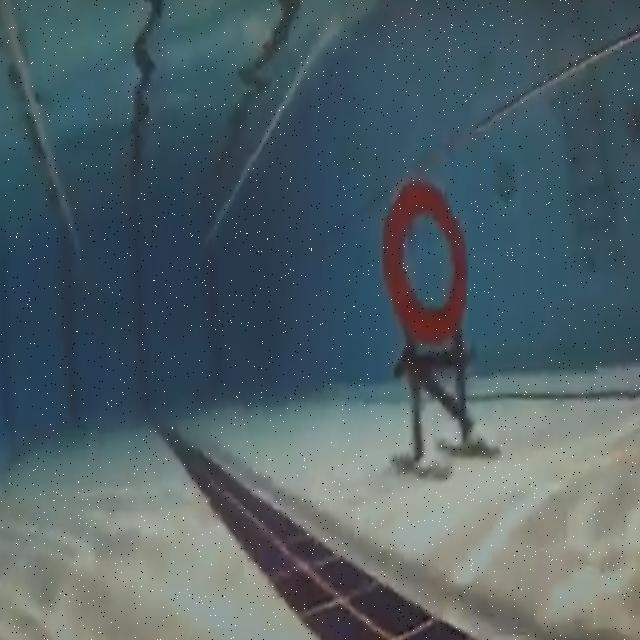Circle: (384, 176, 471, 344)
